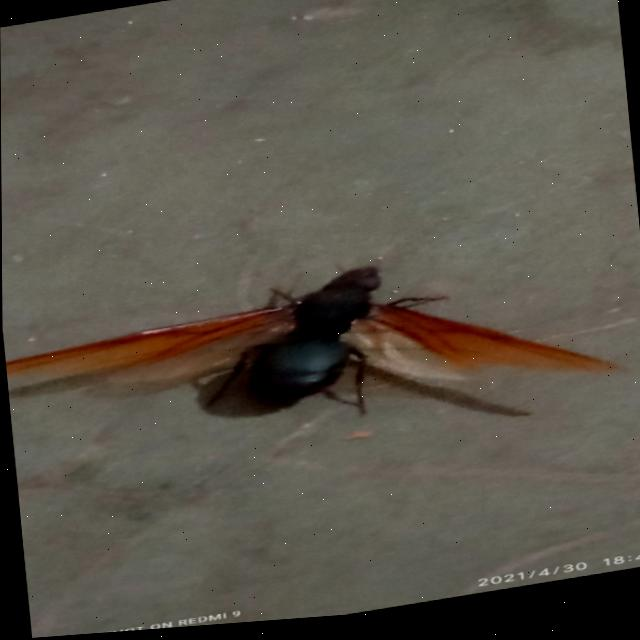Alive-Female-Alate: (2, 228, 617, 470)
